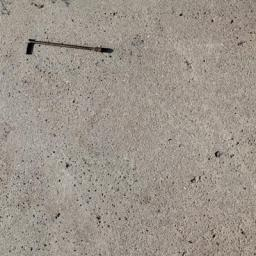FOD: (23, 37, 110, 63)
